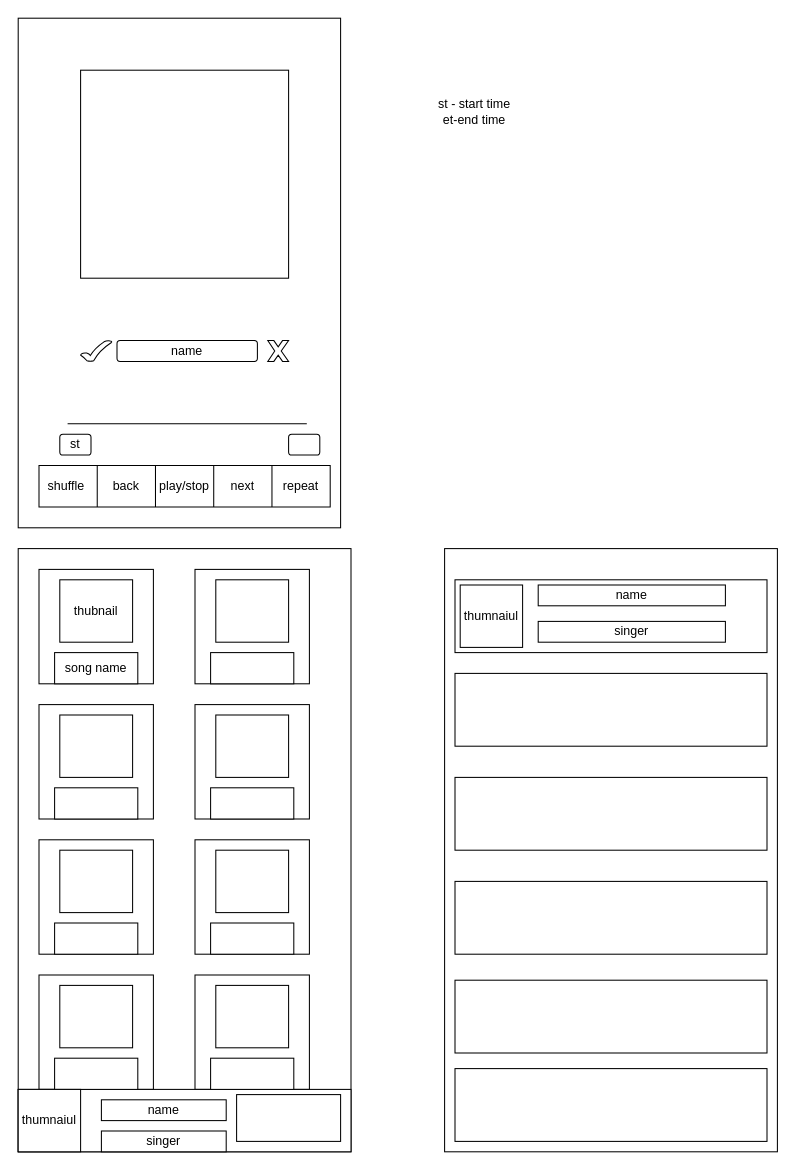
Image size: 796x1170. Some labels were removed from this diagram. The centre of each missing label's shape, as x and y in pixels:
back/play/next: the point at 288,1117
et: the point at 304,444
thumbnail: the point at 184,173
